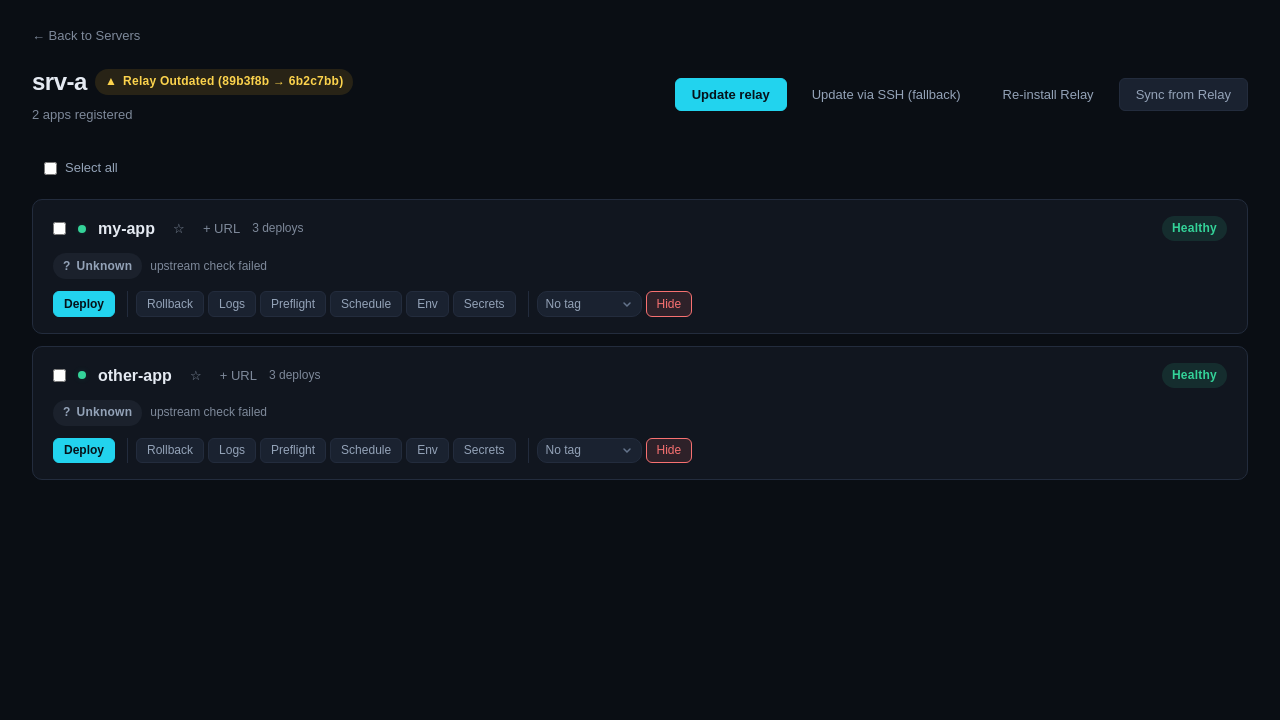
ServerDetailPage - blocked deploys › bulk deploy result names the blocked app and its failed check, and shows the other app as succeeded
Check: the text "other-app" is shown, box [98,362,172,388]
Click the checkbox named "Select my-app".
click(60, 229)  # box [53,222,66,235]
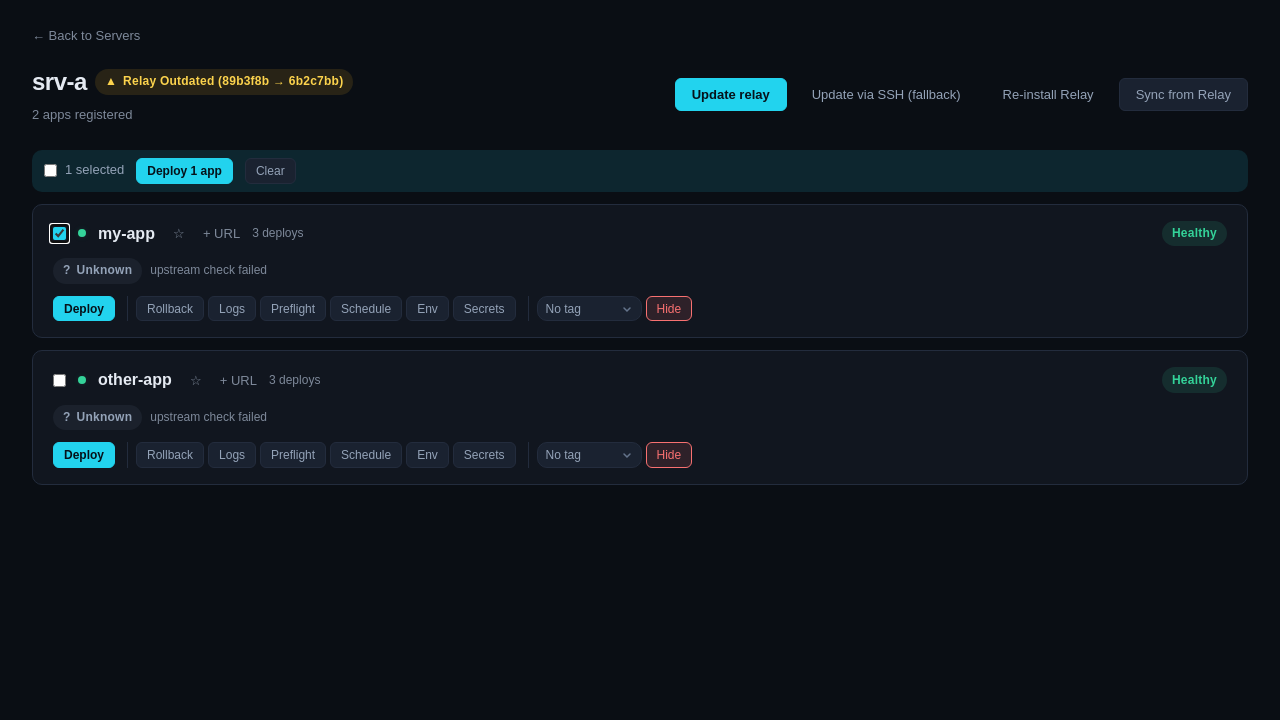
Click the checkbox named "Select other-app".
click(60, 380)  # box [53,374,66,387]
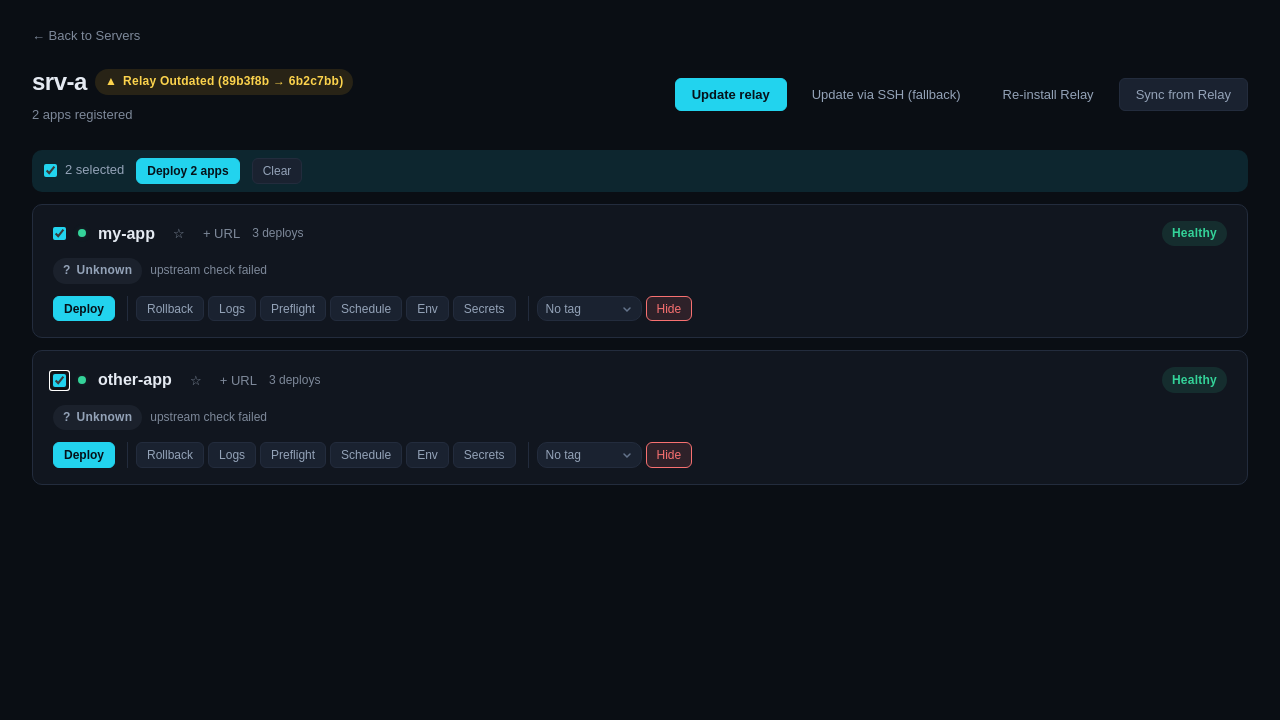
Click the button "Deploy 2 apps".
click(188, 171)  # box [136,158,240,184]
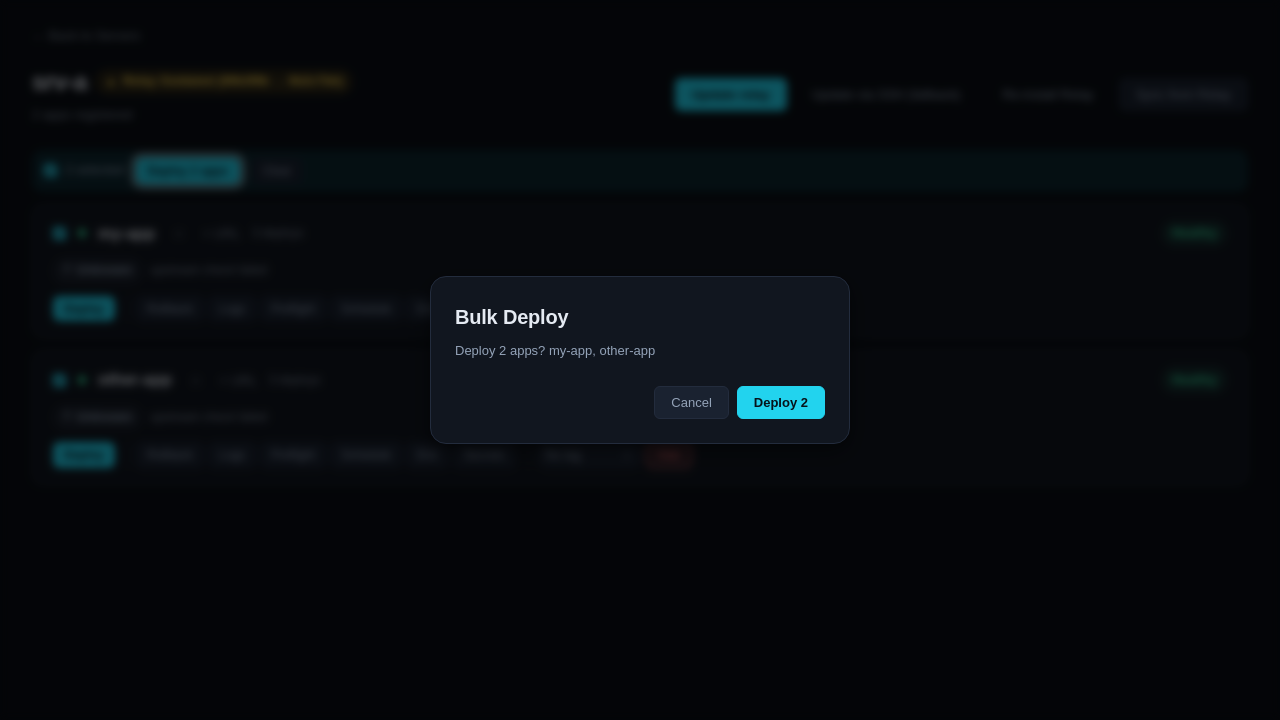
Click the button "Deploy 2".
click(781, 402)  # box [737,386,825,419]
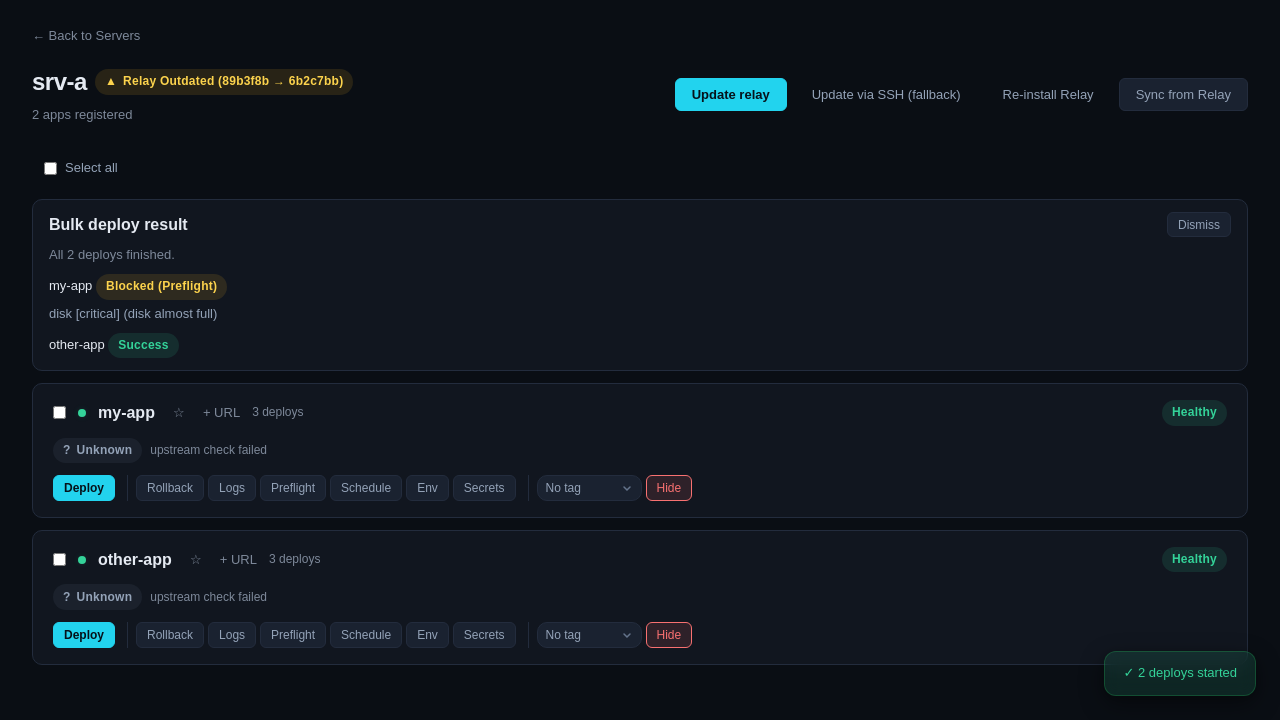
Check: the element "Bulk deploy result" shows "disk [critical] (disk almost full)", box [49,306,217,321]
Check: the list item "my-app" shows "Blocked (preflight)", box [106,279,217,293]
Check: the list item "my-app" shows "disk [critical] (disk almost full)", box [49,306,217,321]
